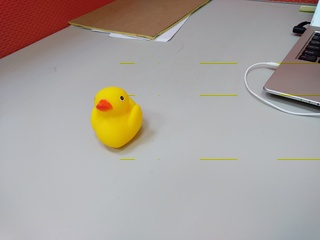duck: (88, 86, 145, 152)
